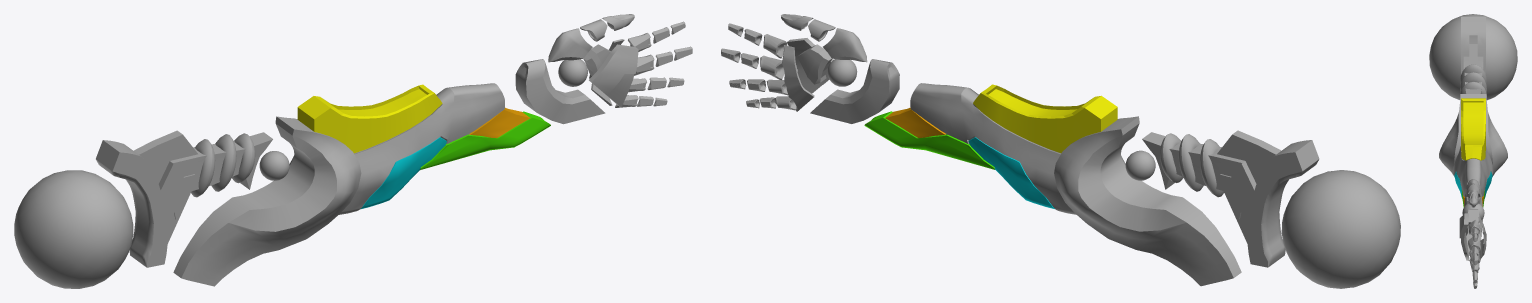
The model's file is Armstatic.fbx.
3 views of the same model, side by side, from view 1: azimuth 30°, elevation 25°; view 2: azimuth 150°, elevation 25°; view 3: azimuth 270°, elevation 25° (orthographic). The views are drawn at different scales.
Visible parts, largest first — view 1: WholeArm1; view 2: WholeArm1; view 3: WholeArm1.
Boxes of the visible parts, x1,y1,x2,y2 form: WholeArm1: (14,14,692,288); WholeArm1: (721,14,1400,288); WholeArm1: (1429,14,1517,288).
Bounding box in the file's own units: 64.81 × 15.62 × 9.96.
